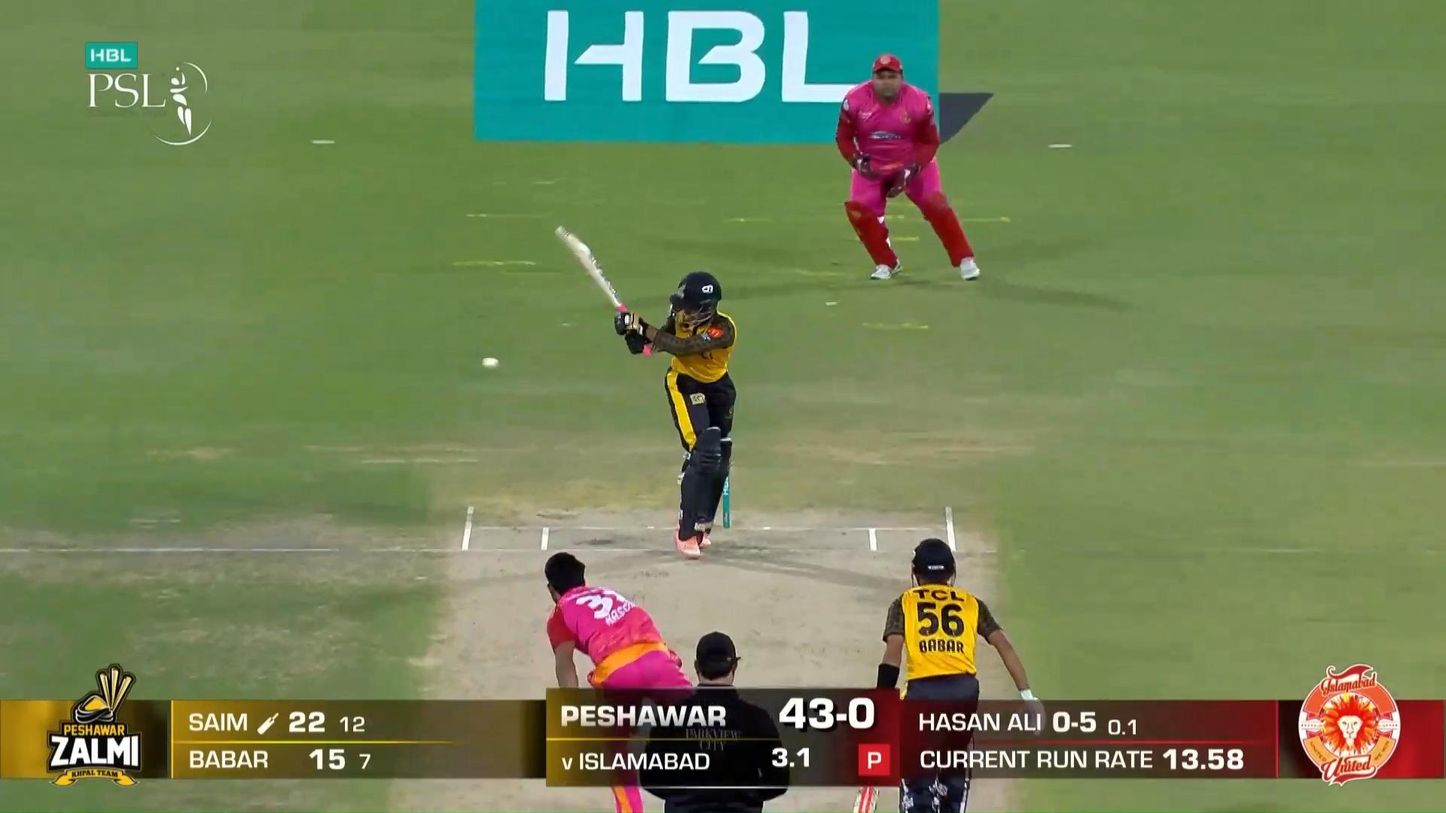batsman: (556, 227, 737, 560)
